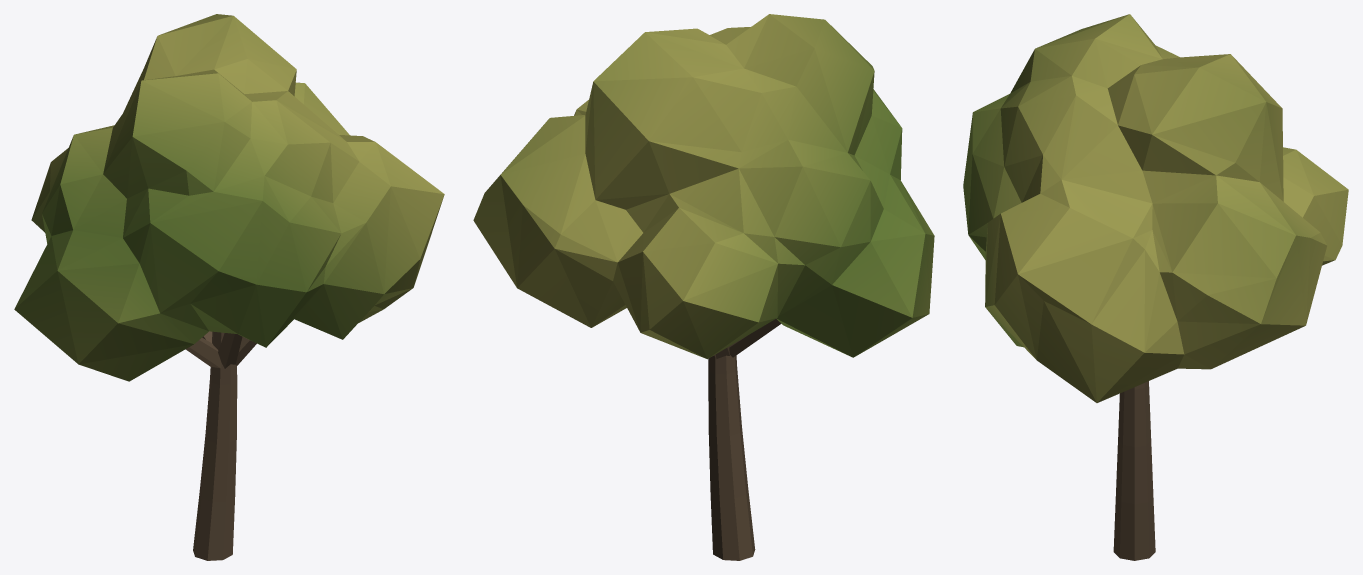
Rendered from FieldMapleA.glb.
3 renders of one model, left to right at view 1: azimuth 30°, elevation 25°; view 2: azimuth 150°, elevation 25°; view 3: azimuth 270°, elevation 25°, orthographic. The views are drawn at different scales.
Parts seen in each view (by area): view 1: FieldMapleA_LOD0; view 2: FieldMapleA_LOD0; view 3: FieldMapleA_LOD0.
Boxes of the visible parts, <box> form: FieldMapleA_LOD0: <box>14,14,444,560</box>; FieldMapleA_LOD0: <box>473,14,934,560</box>; FieldMapleA_LOD0: <box>963,14,1348,560</box>.
Size of what is drawn, in the model's own units: 4.87 by 6.17 by 4.22.
